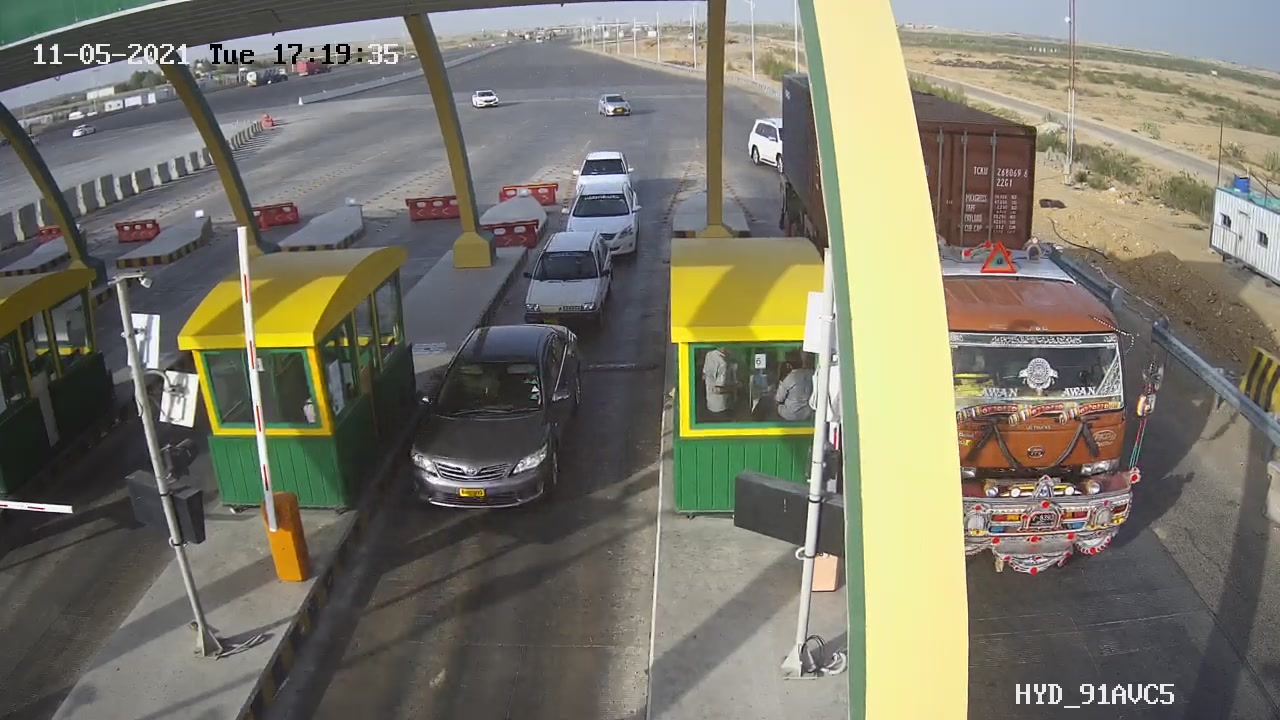F1: (396, 312, 599, 533), (509, 222, 630, 339)
